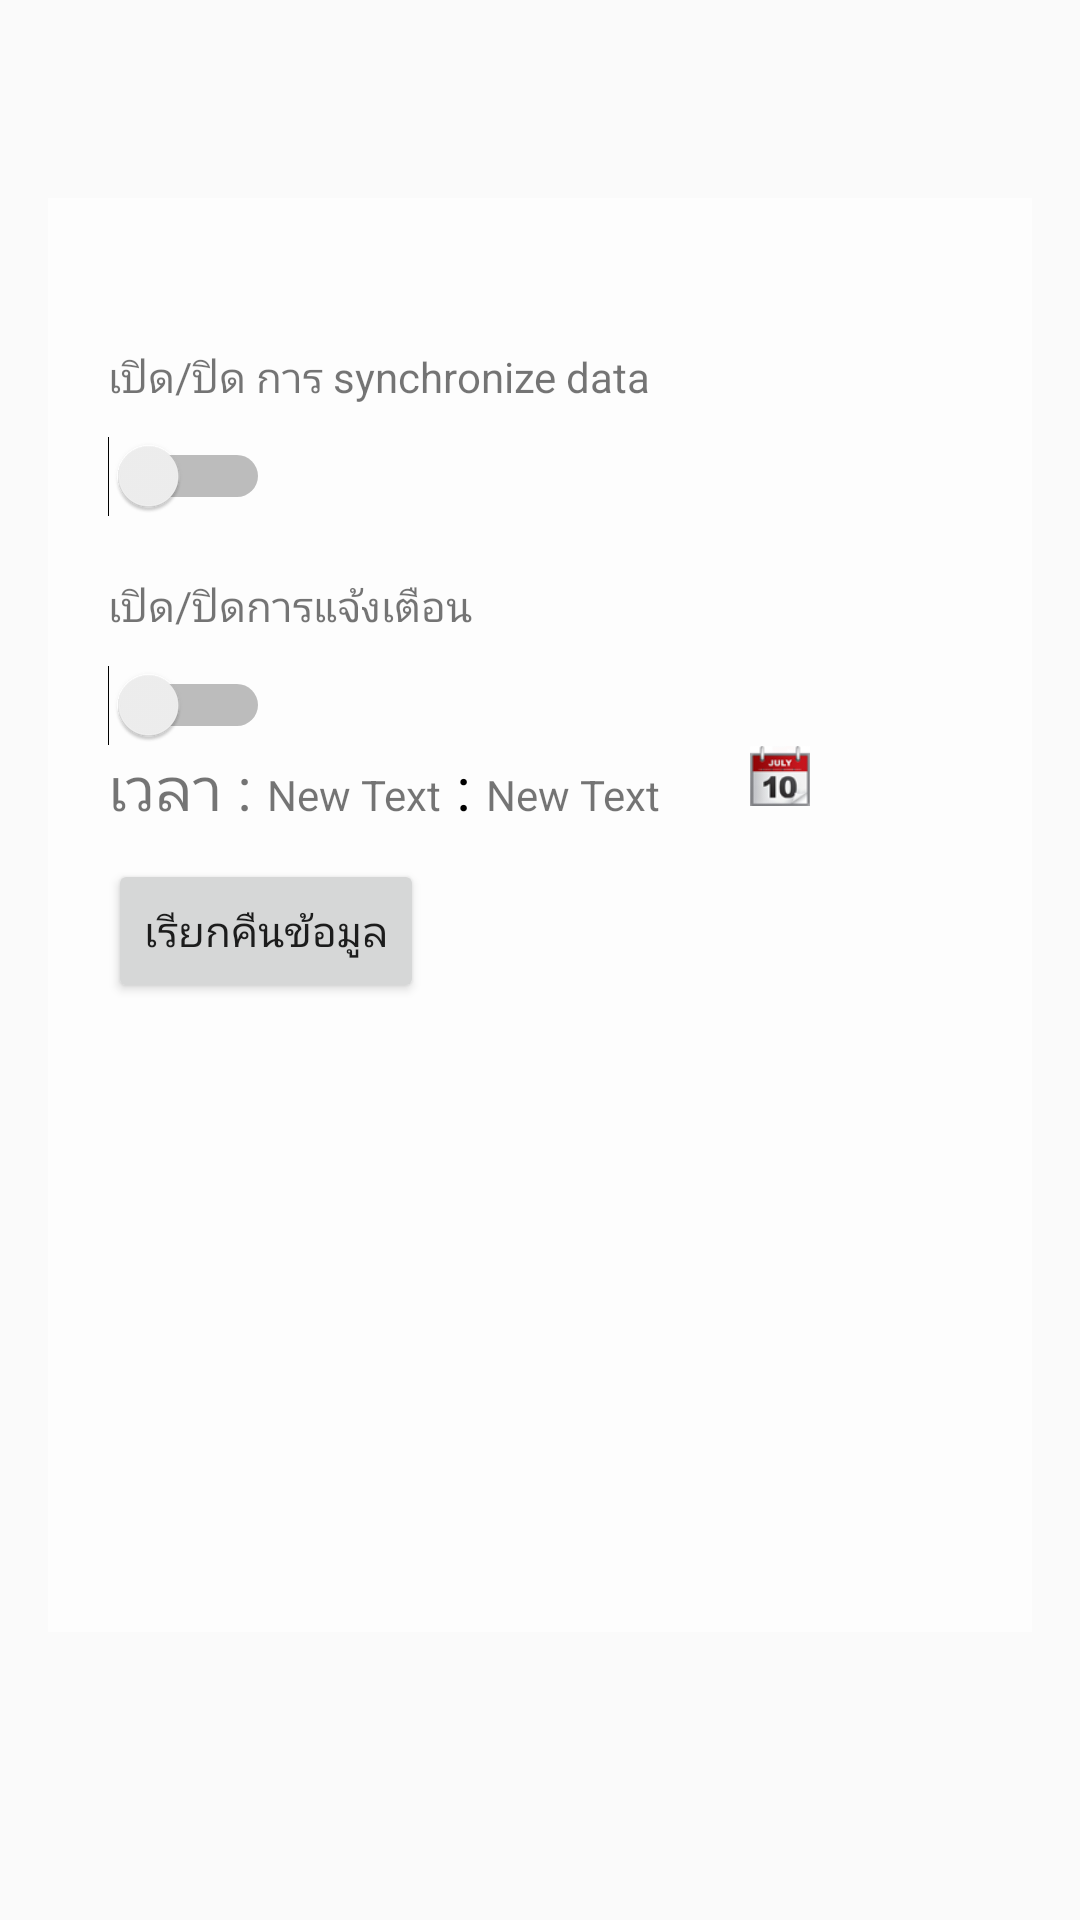

Icon bounding boxes for this 1080×1920 phone screenshot, format (x1, y1, x2, y2):
calen: (750, 746, 810, 806)
